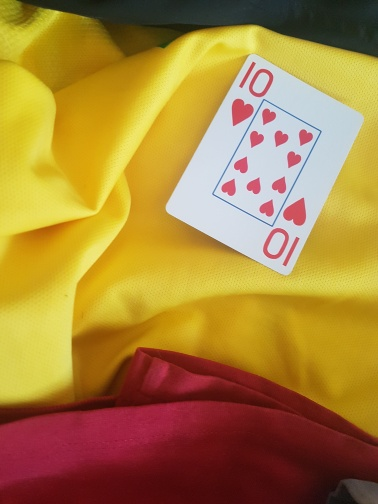ten: (165, 55, 366, 278)
